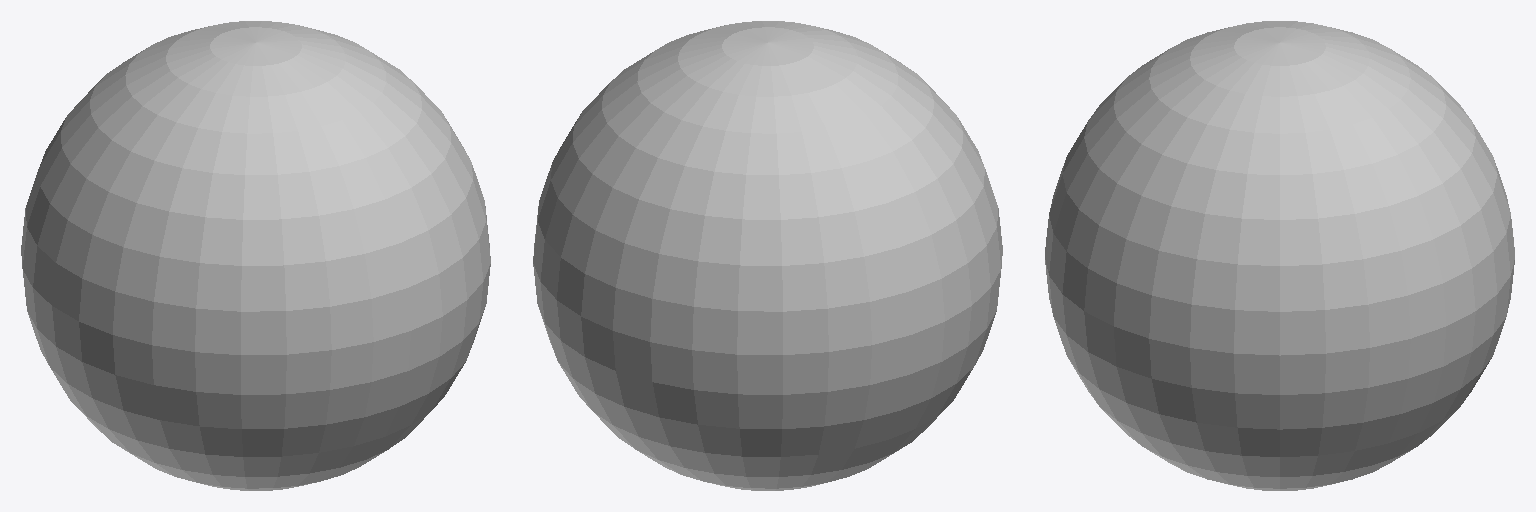
Rendered from moon.obj.
The picture shows the model from 3 angles: view 1: azimuth 30°, elevation 25°; view 2: azimuth 150°, elevation 25°; view 3: azimuth 270°, elevation 25°; orthographic projection.
Parts seen in each view (by area): view 1: Sphere; view 2: Sphere; view 3: Sphere.
Boxes of the visible parts, x1,y1,x2,y2 form: Sphere: [21, 21, 490, 490]; Sphere: [533, 21, 1002, 490]; Sphere: [1045, 21, 1514, 490].
Size of the model in its own units: 2.98 by 2.98 by 2.98.